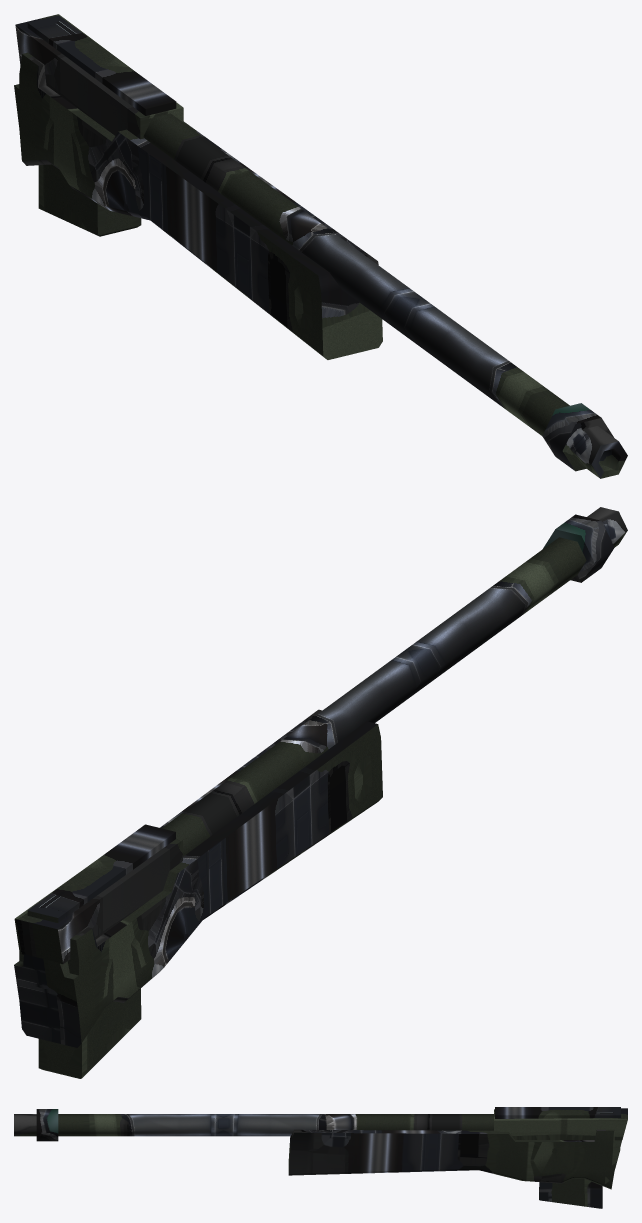
The model's file is AwpFPV.fbx.
The picture shows the model from 3 angles, top to bottom: view 1: azimuth 30°, elevation 25°; view 2: azimuth 150°, elevation 25°; view 3: azimuth 270°, elevation 25°; orthographic projection. The views are drawn at different scales.
Visible parts, largest first — view 1: gUNfpv; view 2: gUNfpv; view 3: gUNfpv.
Boxes of the visible parts, x1=… form: gUNfpv: x1=14, y1=14, x2=627, y2=478; gUNfpv: x1=14, y1=507, x2=627, y2=1078; gUNfpv: x1=14, y1=1107, x2=627, y2=1208.
Bounding box in the file's own units: 0.0521 × 0.1447 × 0.8671.
